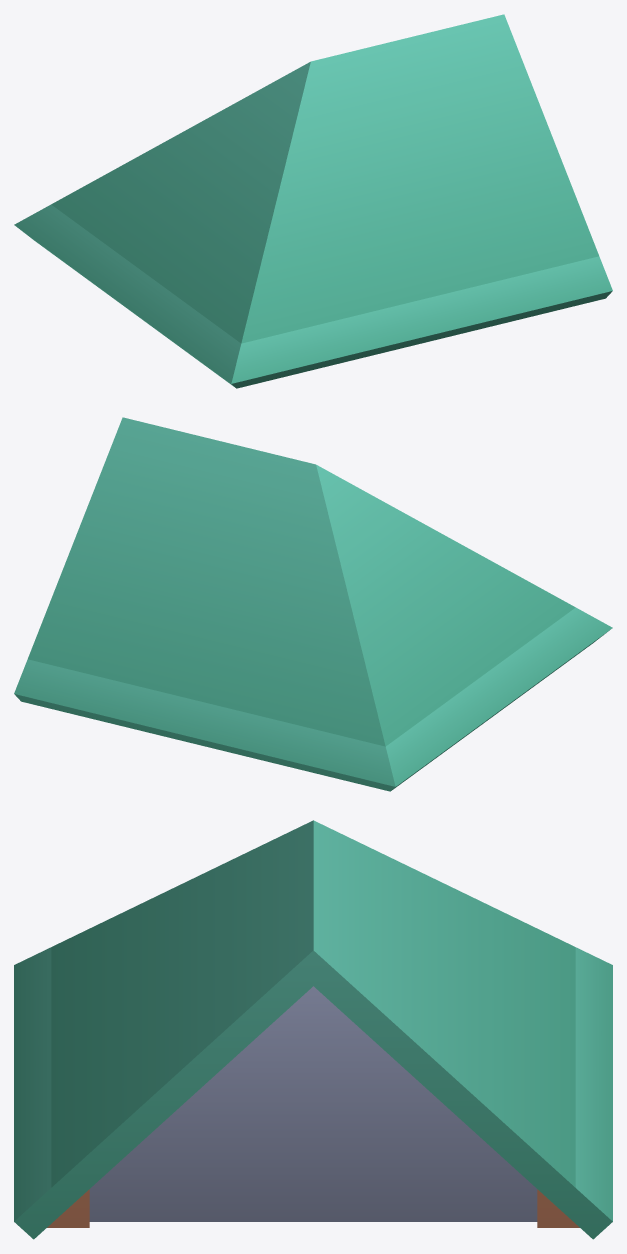
Rendered from roof-gable-end.glb.
3 views of the same model, one above another, from view 1: azimuth 30°, elevation 25°; view 2: azimuth 150°, elevation 25°; view 3: azimuth 270°, elevation 25° (orthographic). The views are drawn at different scales.
Visible parts, largest first — view 1: roof-gable-end; view 2: roof-gable-end; view 3: roof-gable-end.
Part boxes in pixels (box(x1,y1,x2,y2)): roof-gable-end: box(14, 14, 612, 388); roof-gable-end: box(14, 417, 612, 791); roof-gable-end: box(14, 820, 612, 1239).
Size of the model in its own units: 1.09 by 0.5707 by 1.07.
Materials: 1 (1 with a texture image).
